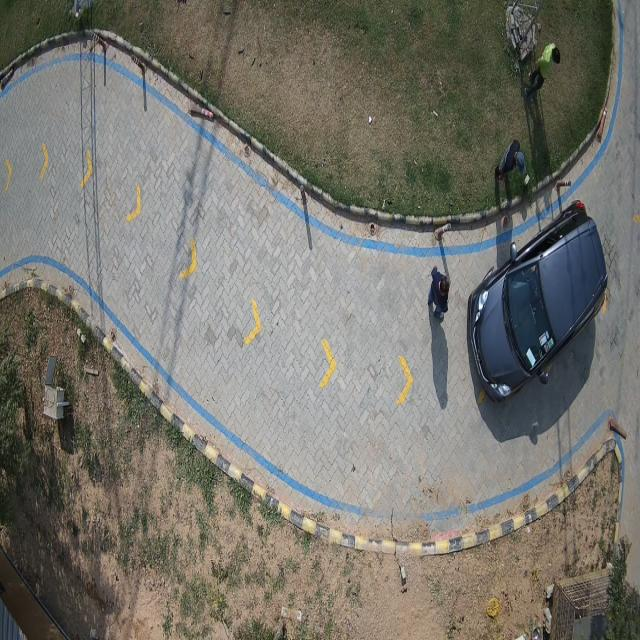car: (468, 202, 606, 401)
